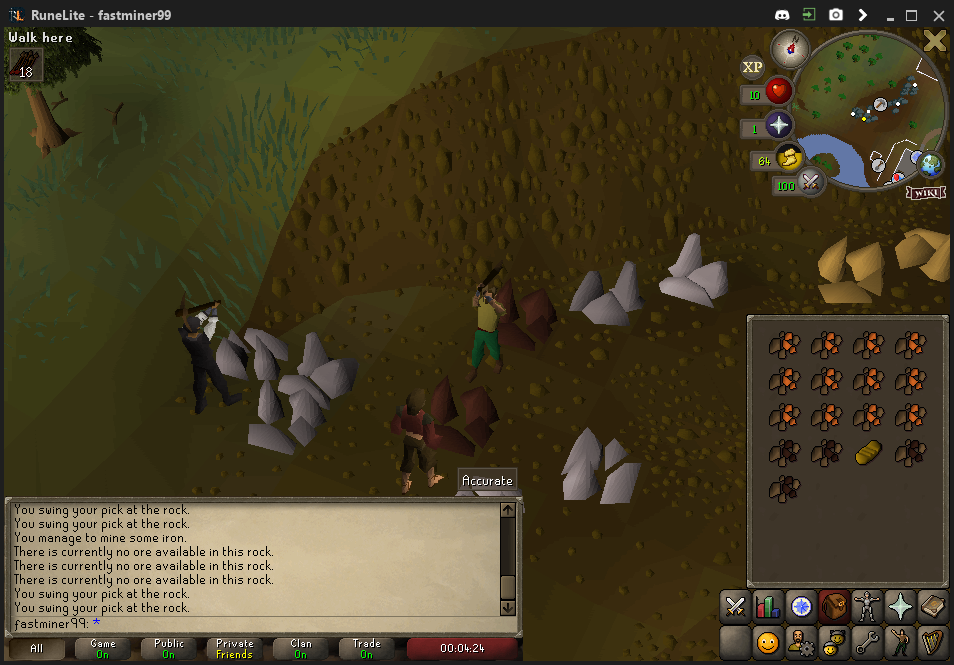ore: (477, 279, 564, 354), (413, 379, 496, 456)
